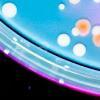orange: (74, 17, 91, 37), (89, 33, 100, 48)
white: (0, 0, 19, 20), (70, 39, 88, 59), (55, 32, 72, 49), (88, 23, 100, 38), (55, 2, 67, 14), (65, 0, 82, 8), (70, 26, 81, 38), (2, 46, 11, 58), (63, 62, 71, 73), (58, 77, 66, 86), (12, 36, 20, 44), (90, 0, 100, 6)
